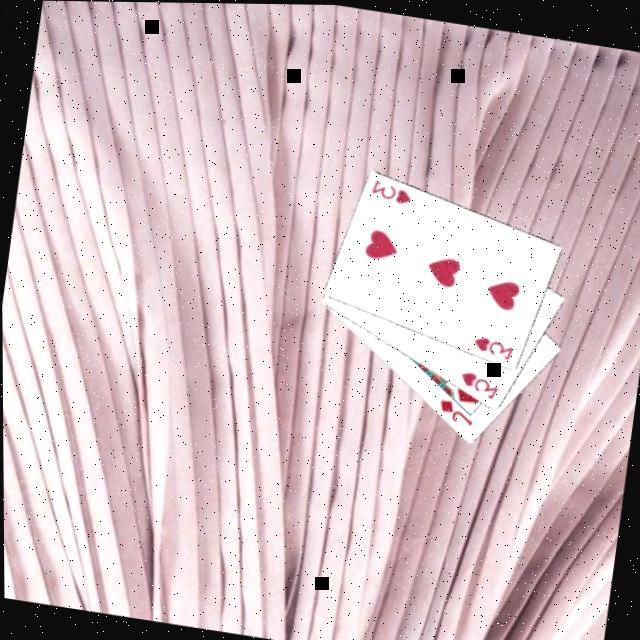3H: (453, 367, 501, 403), (364, 175, 413, 208), (466, 331, 515, 362)
JD: (432, 395, 476, 429)
